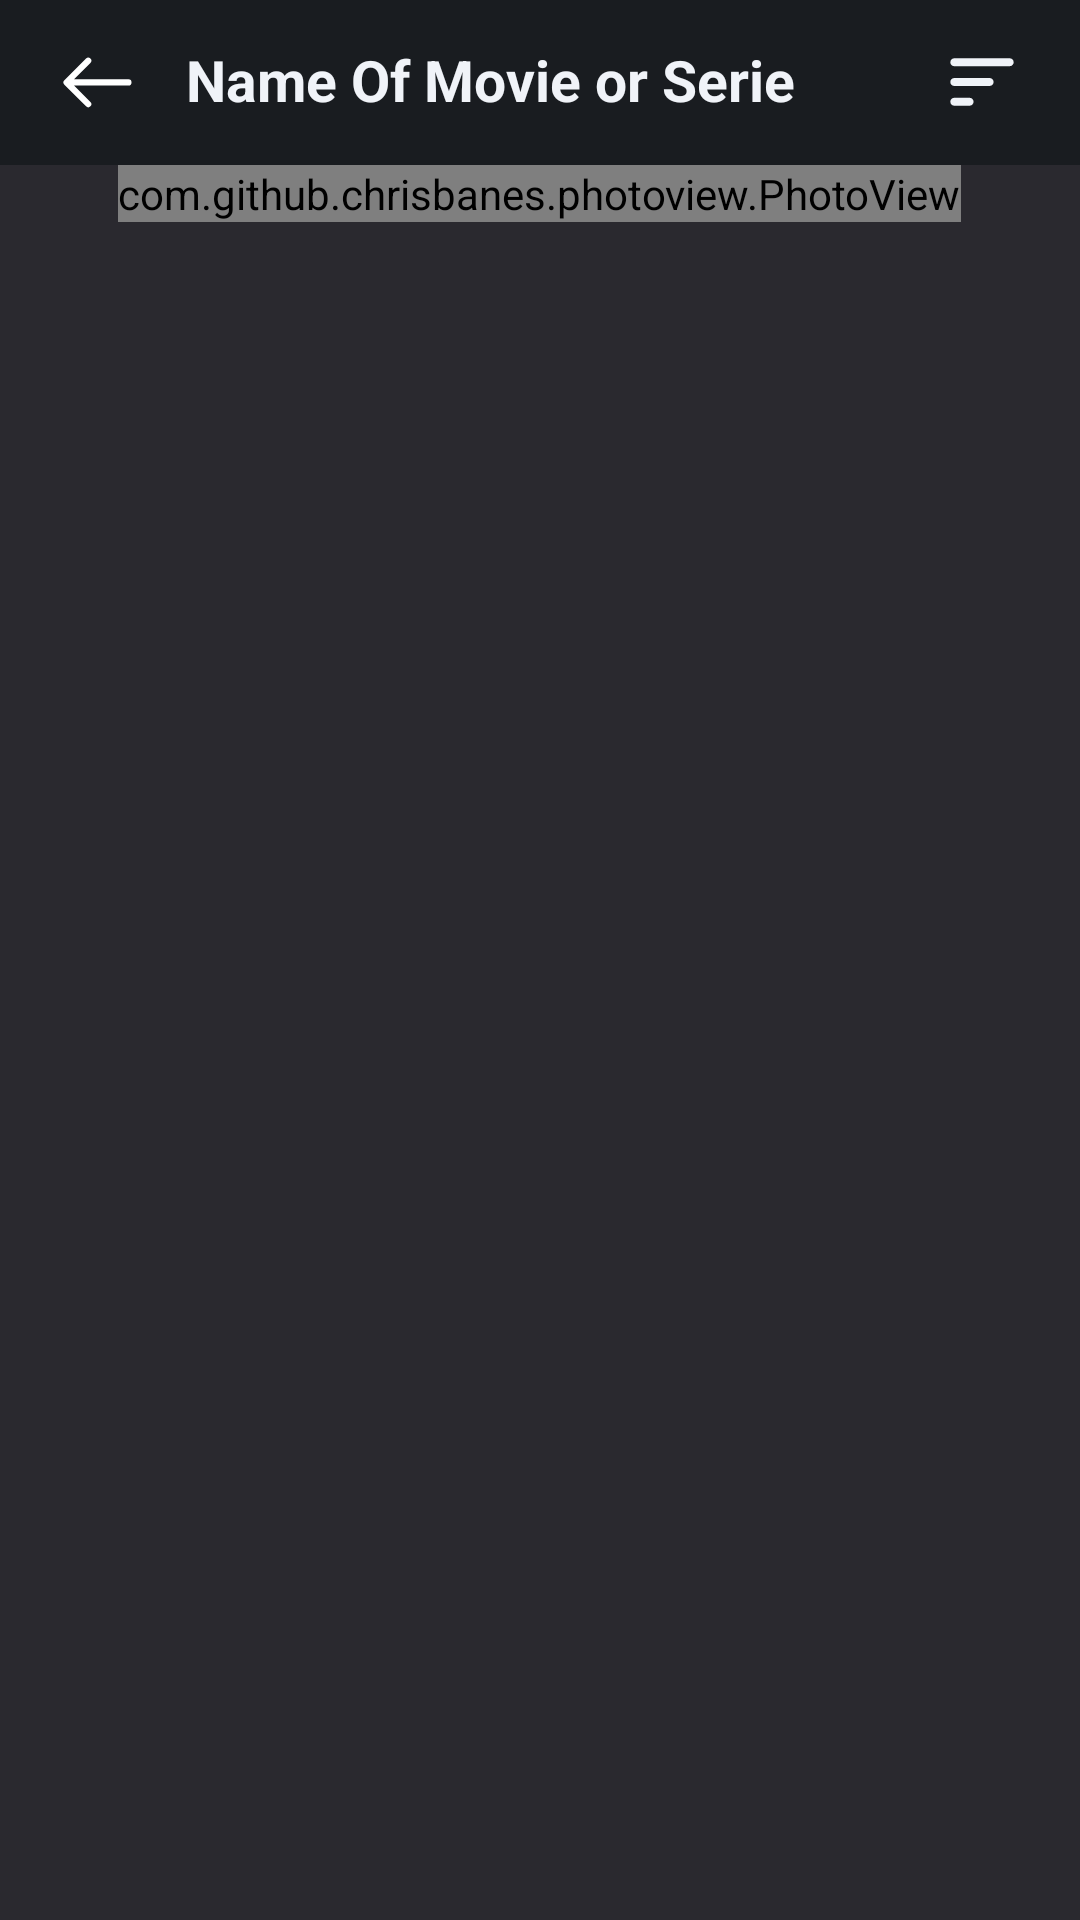

Icon click points for this 1080w x 1920h phone screenshot, format point (x, y):
arrow back: point (97, 82)
